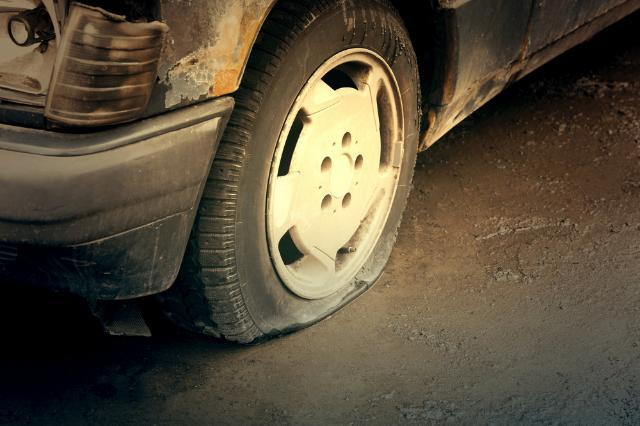tire flat: (163, 0, 419, 345)
